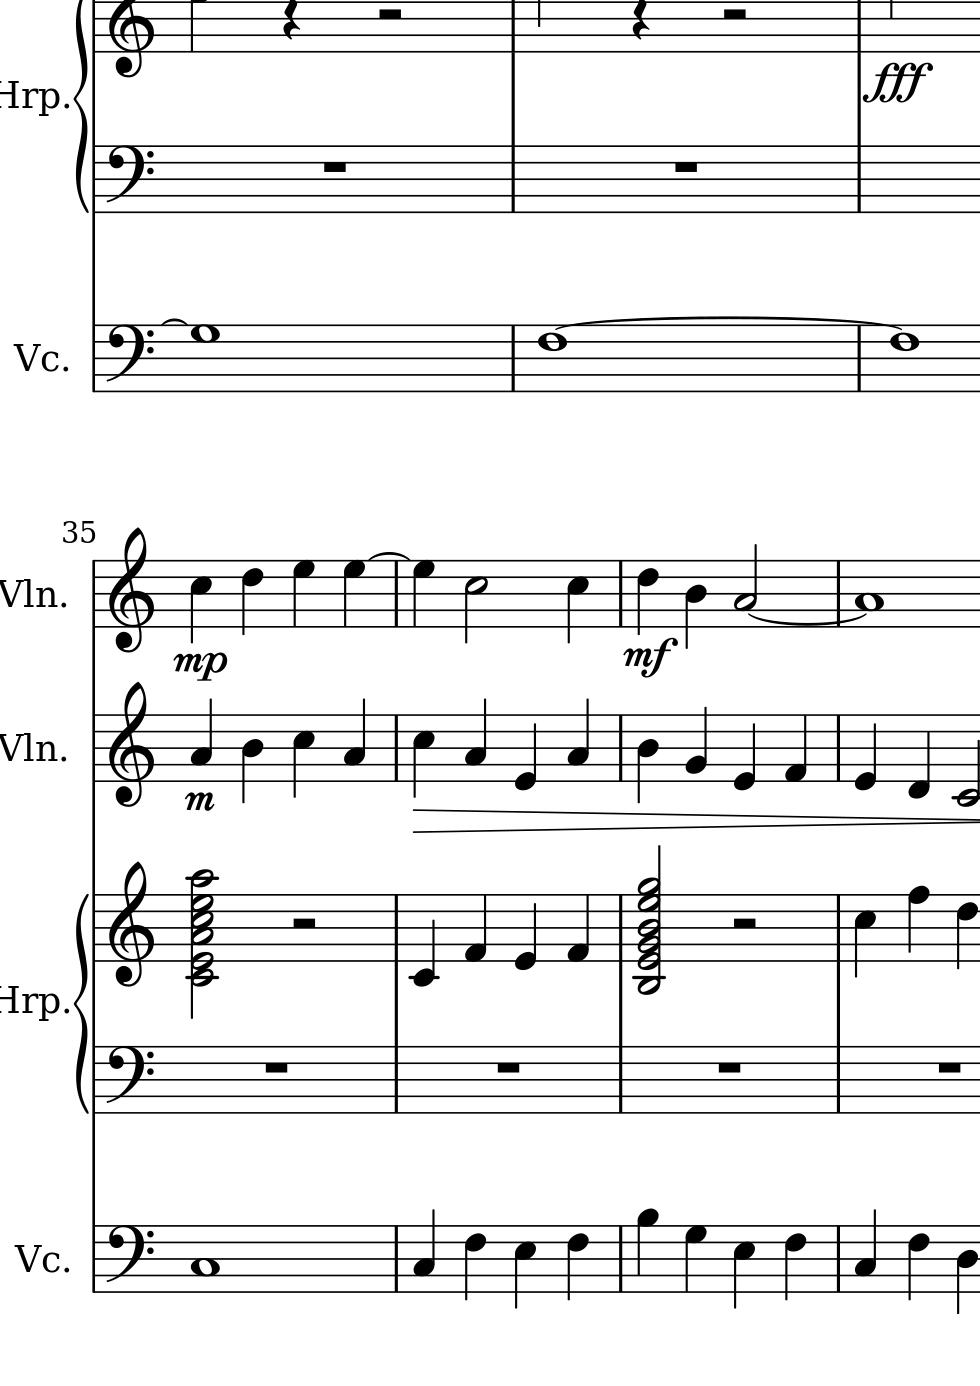1_3: (853, 557, 883, 629), (189, 1223, 220, 1294)
1_6: (535, 323, 568, 394), (887, 323, 921, 394)
2_-2: (952, 710, 978, 807)
2_3: (731, 542, 759, 627)
2_5: (462, 559, 488, 646)
3: (60, 517, 78, 545)
4_-1: (905, 712, 931, 802)
4_-2: (409, 892, 438, 989)
4_0: (851, 712, 879, 793), (731, 712, 757, 793), (512, 892, 538, 972), (513, 713, 538, 793)
4_1: (462, 892, 489, 964), (782, 712, 808, 783), (565, 892, 591, 964)
4_2: (683, 704, 708, 784)
4_3: (188, 697, 214, 780), (342, 696, 367, 782), (565, 696, 591, 782), (412, 1208, 437, 1294), (463, 696, 488, 782), (853, 1209, 877, 1293)
4_4: (239, 712, 265, 805), (634, 712, 660, 805), (683, 558, 708, 650), (955, 1224, 978, 1316)
4_5: (187, 558, 212, 644), (564, 558, 589, 646), (291, 712, 315, 800), (853, 892, 877, 980), (731, 1224, 755, 1311), (412, 712, 435, 800), (512, 1223, 536, 1311)
4_6: (564, 1223, 590, 1302), (782, 1224, 807, 1302), (240, 559, 265, 636), (462, 1223, 487, 1303), (634, 558, 659, 637), (953, 893, 978, 972), (906, 1223, 930, 1302)
4_7: (290, 559, 316, 629), (409, 558, 435, 629), (340, 559, 366, 629), (682, 1224, 707, 1293)
4_8: (904, 884, 931, 964)
4_9: (634, 1207, 659, 1294)
5: (78, 517, 97, 546)
8_7: (188, 324, 220, 394)
Brace: (73, 889, 90, 1115)
Fclef: (104, 322, 155, 394), (103, 1045, 154, 1116), (104, 144, 155, 214), (104, 1224, 154, 1295)
Gclef: (105, 680, 156, 810), (106, 527, 156, 655), (106, 860, 155, 987)
Hrp: (1, 980, 57, 1027), (1, 78, 59, 119)
Rests1: (318, 157, 350, 176), (670, 157, 701, 176), (934, 1057, 965, 1075), (261, 1059, 291, 1076), (493, 1059, 523, 1076), (714, 1059, 743, 1075)
Rests2: (728, 915, 760, 935), (373, 6, 406, 25), (287, 915, 320, 934), (717, 6, 750, 24)
Rests4: (280, 1, 302, 43), (629, 1, 651, 43)
Single_barline: (829, 1047, 847, 1113), (388, 561, 406, 627), (829, 561, 847, 627), (388, 895, 406, 961), (387, 1227, 405, 1291), (505, 324, 522, 391), (830, 895, 847, 962), (504, 147, 521, 213), (612, 560, 629, 626), (388, 715, 405, 780), (850, 147, 867, 212), (850, 327, 867, 391), (612, 716, 629, 780), (613, 1226, 630, 1291), (830, 1226, 847, 1291), (86, 324, 102, 392), (388, 1047, 404, 1113), (612, 1047, 628, 1113), (830, 715, 846, 780), (613, 894, 628, 962), (87, 560, 101, 628), (87, 715, 101, 783), (88, 146, 102, 213), (88, 1047, 102, 1113), (87, 1226, 101, 1293), (88, 895, 101, 962)
Slur: (552, 315, 909, 332), (747, 613, 865, 626), (369, 551, 410, 562), (159, 317, 185, 326)
Vc: (14, 1240, 62, 1278), (13, 335, 62, 372)
Vln: (1, 574, 58, 614), (1, 729, 58, 767)
fff: (863, 62, 937, 106)
mf: (622, 638, 679, 682)
mp: (171, 649, 229, 683), (183, 787, 217, 815)
